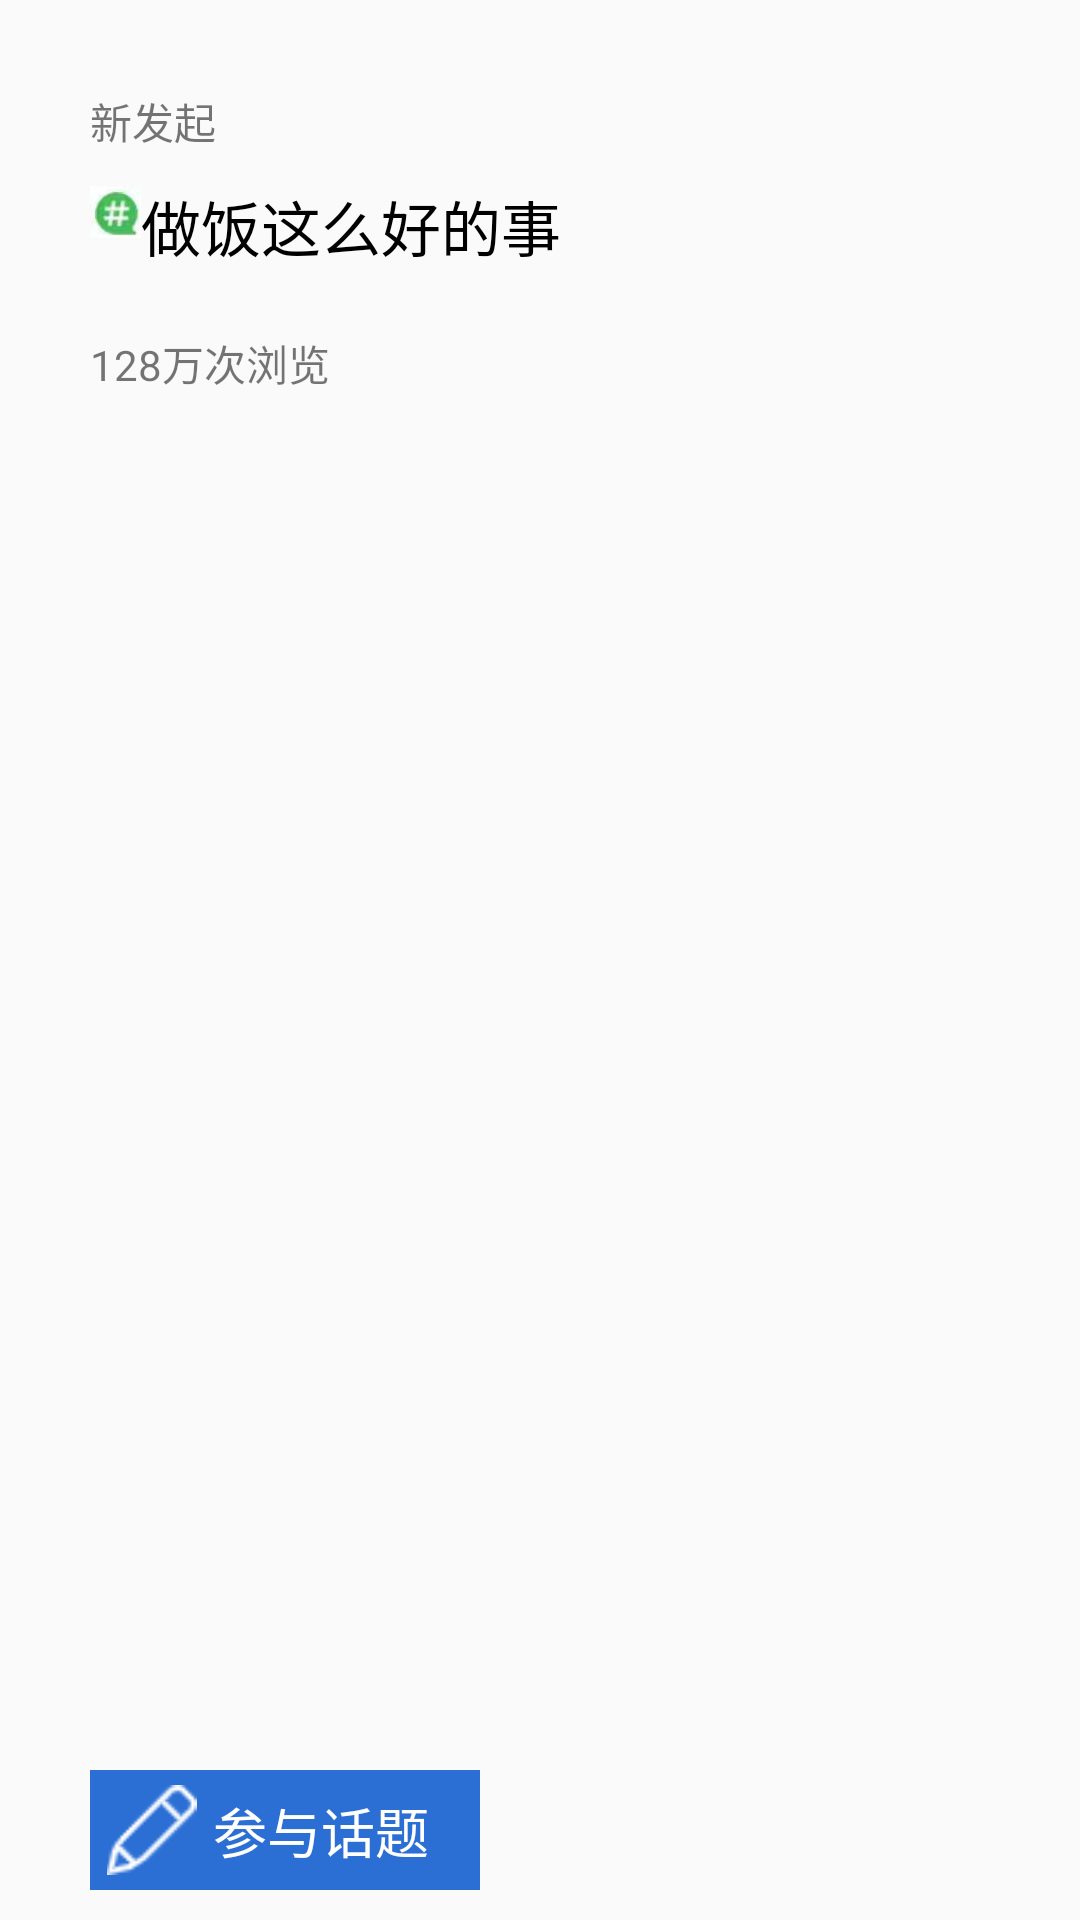

Named icons in this screenshot (1080 x 1920) and their centers, point (x, y):
pen: point (152, 1830)
